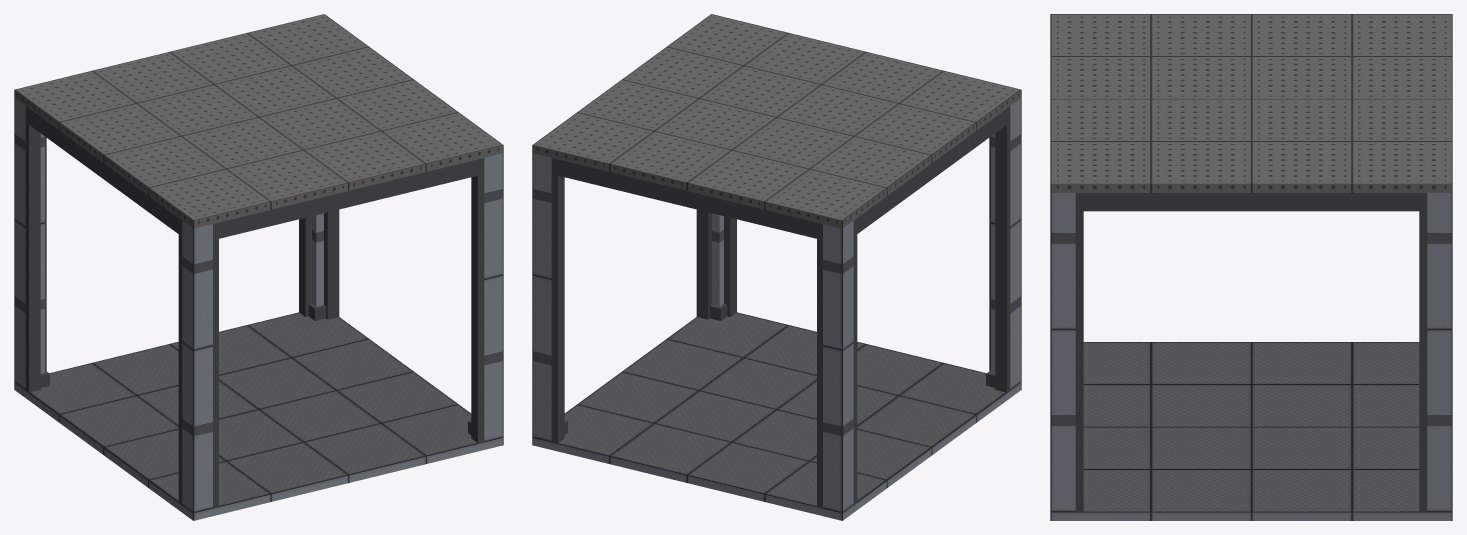
Rendered from Corridor_SciFi_Cross.glb.
The picture shows the model from 3 angles, left to right: view 1: azimuth 30°, elevation 25°; view 2: azimuth 150°, elevation 25°; view 3: azimuth 270°, elevation 25°; orthographic projection. The views are drawn at different scales.
Visible parts, largest first — view 1: Corridor_SciFi_Cross, Corridor_SciFi_Cross_Ceiling; view 2: Corridor_SciFi_Cross, Corridor_SciFi_Cross_Ceiling; view 3: Corridor_SciFi_Cross, Corridor_SciFi_Cross_Ceiling.
Boxes of the visible parts, x1=… form: Corridor_SciFi_Cross: x1=14, y1=98, x2=503, y2=520; Corridor_SciFi_Cross_Ceiling: x1=14, y1=14, x2=503, y2=238; Corridor_SciFi_Cross: x1=532, y1=98, x2=1021, y2=520; Corridor_SciFi_Cross_Ceiling: x1=532, y1=14, x2=1021, y2=238; Corridor_SciFi_Cross: x1=1050, y1=193, x2=1452, y2=520; Corridor_SciFi_Cross_Ceiling: x1=1050, y1=14, x2=1452, y2=211.
Bounding box in the file's own units: 4 × 3.7 × 4.
Materials: 6 (3 with a texture image).
